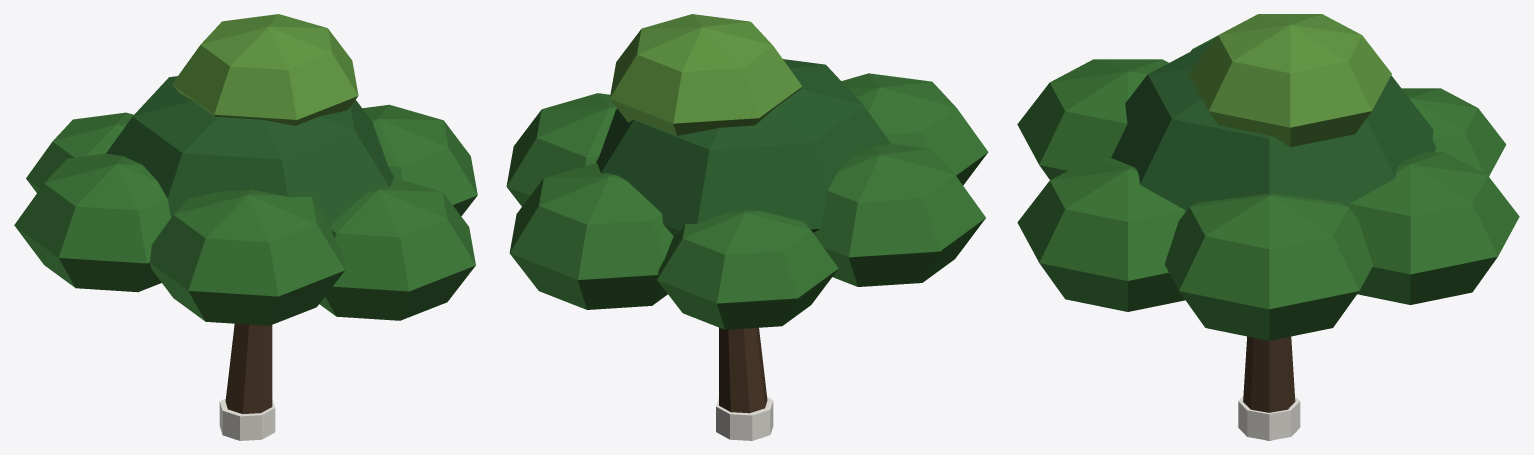
File: arbol_antiguo_0.obj
3 renders of one model, left to right at view 1: azimuth 30°, elevation 25°; view 2: azimuth 150°, elevation 25°; view 3: azimuth 270°, elevation 25°, orthographic. The views are drawn at different scales.
Parts seen in each view (by area): view 1: arbol_antiguo_0; view 2: arbol_antiguo_0; view 3: arbol_antiguo_0.
Boxes of the visible parts, <box> form: arbol_antiguo_0: <box>14,14,477,440</box>; arbol_antiguo_0: <box>506,14,988,440</box>; arbol_antiguo_0: <box>1017,14,1519,440</box>.
Bounding box in the file's own units: 16.61 × 14.22 × 15.4.
